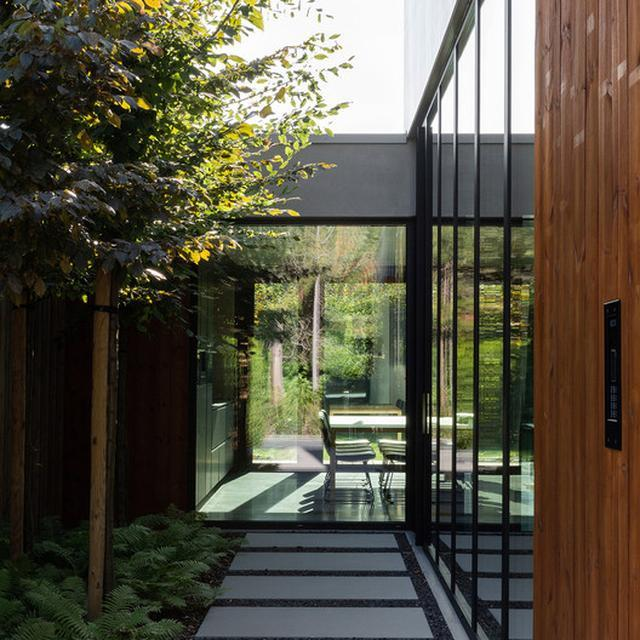building: (192, 127, 640, 640)
